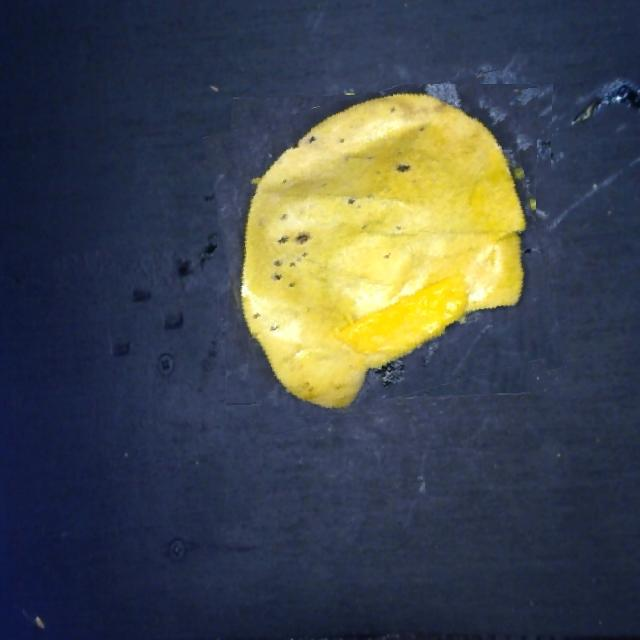biodegradable: (217, 84, 553, 420)
